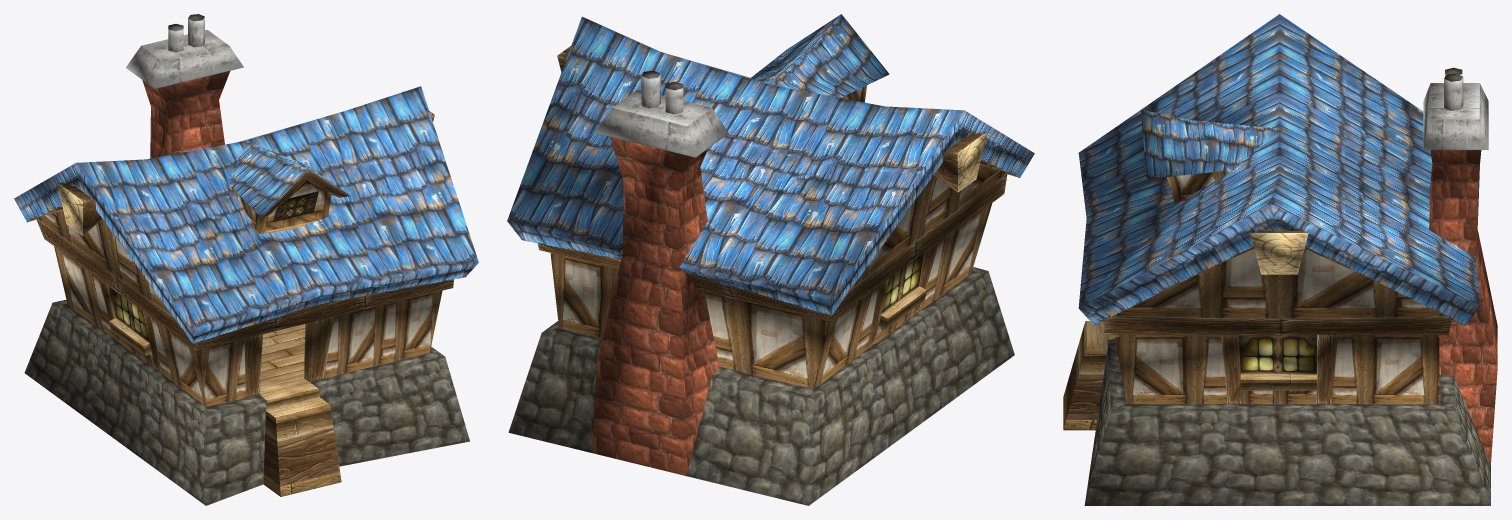
File: farm.glb
The picture shows the model from 3 angles, left to right: view 1: azimuth 30°, elevation 25°; view 2: azimuth 150°, elevation 25°; view 3: azimuth 270°, elevation 25°; orthographic projection. The views are drawn at different scales.
Size of the model in its own units: 18.87 by 16.88 by 18.02.
Materials: 14 (14 with a texture image).
